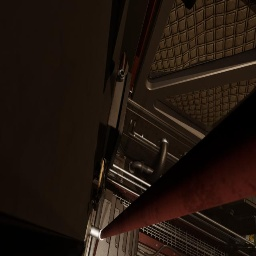0: (235, 234, 256, 248), (252, 252, 256, 254)
EmergencyPhone ,: (91, 157, 106, 211)
